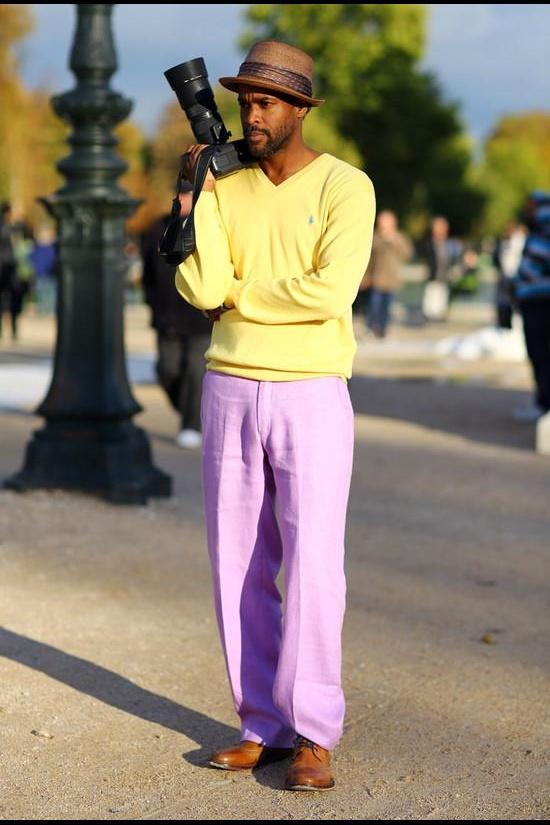pants: (202, 358, 356, 750)
sweater: (173, 143, 379, 379)
